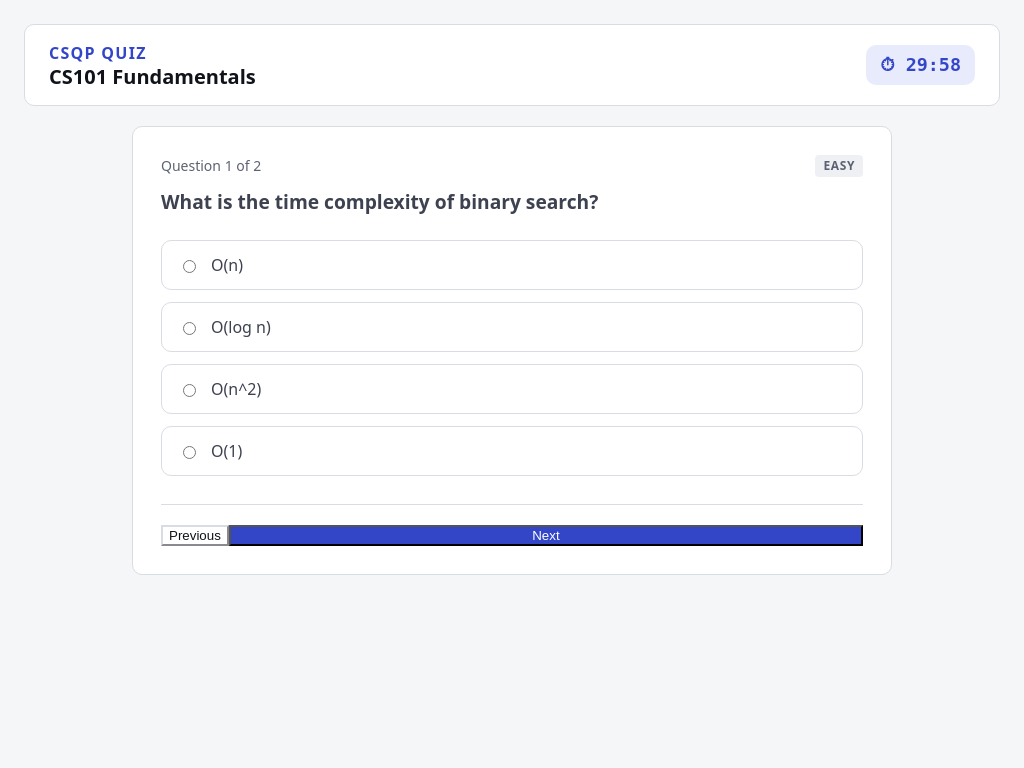
Test: CSQP-23 & CSQP-24: Frontend Anti-Cheat & Single Attempt (TC-Att-03, TC-Att-04) › CSQP-23: Anti-Cheat Protection & Telemetry Enforcement › allows navigating questions, selecting options, and submitting quiz
The width and height of the screenshot is (1024, 768).
Expected: the heading "What is the time complexity of binary search?" is shown, 161,188 -> 598,215
Note: Select option on Question 1
Click the radio button labelled "O(log n)".
click(190, 328)  # box 183,322 -> 196,335
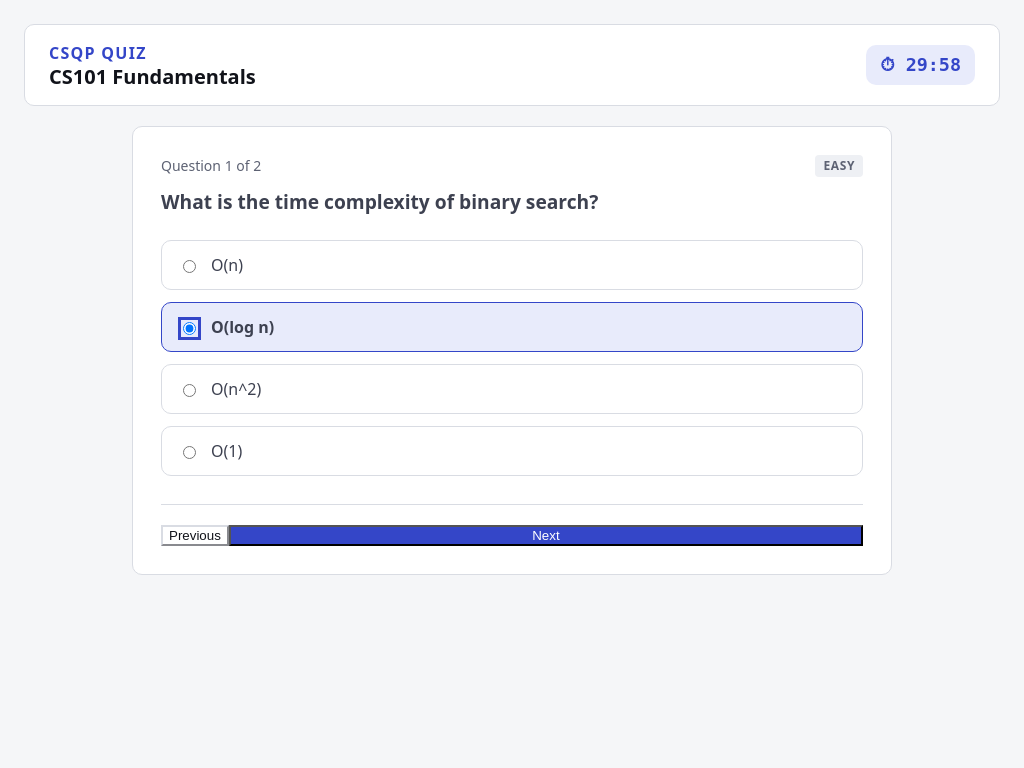
Expected: the radio button labelled "O(log n)" is checked, 183,322 -> 196,335
Note: Click Next
Click the button "Next".
click(546, 535)  # box 229,525 -> 863,546
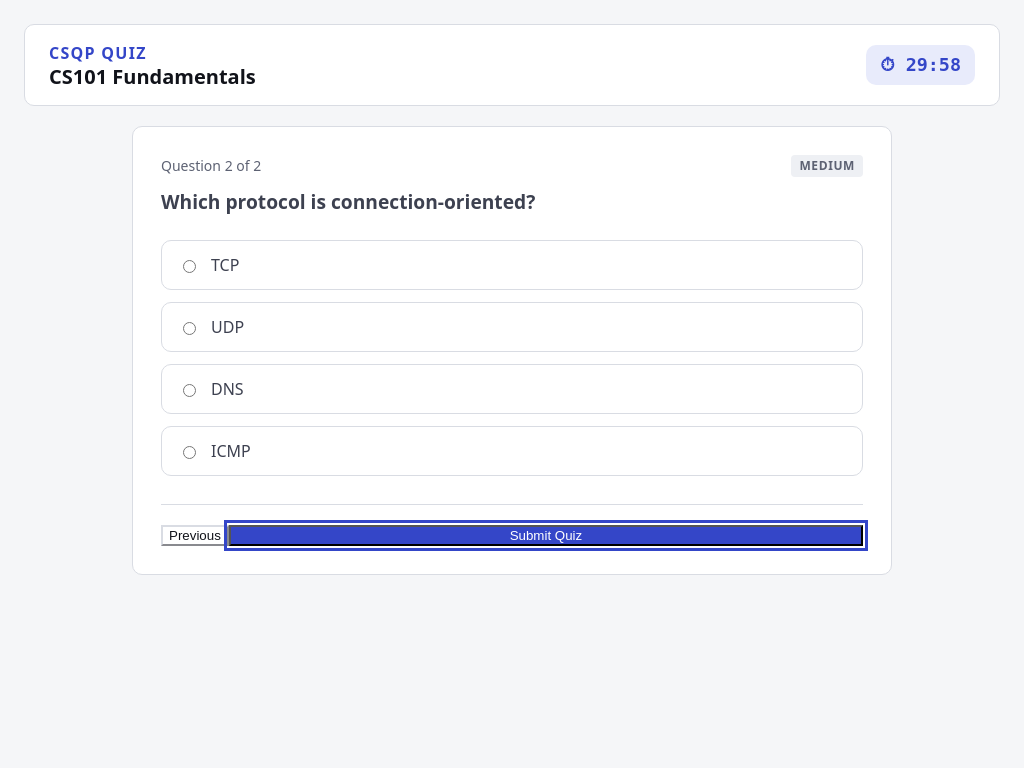
Expected: the heading "Which protocol is connection-oriented?" is shown, 161,188 -> 535,215
Click the radio button labelled "TCP".
click(190, 266)  # box 183,260 -> 196,273
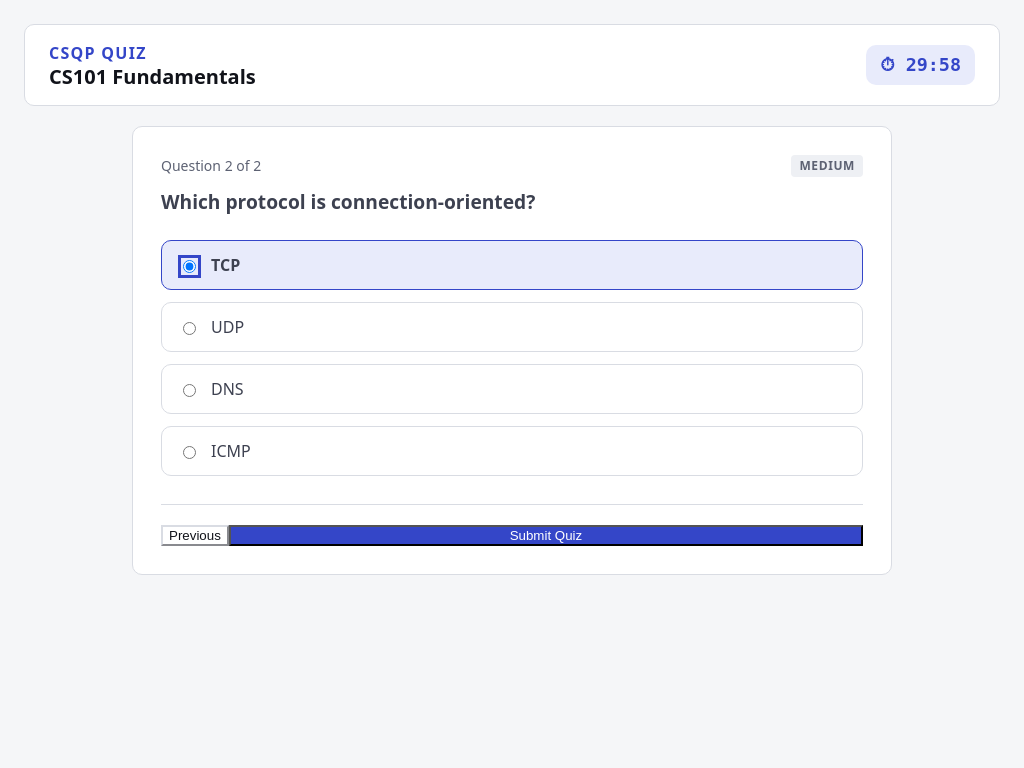
Expected: the radio button labelled "TCP" is checked, 183,260 -> 196,273
Click the button "Submit Quiz".
click(546, 535)  # box 229,525 -> 863,546
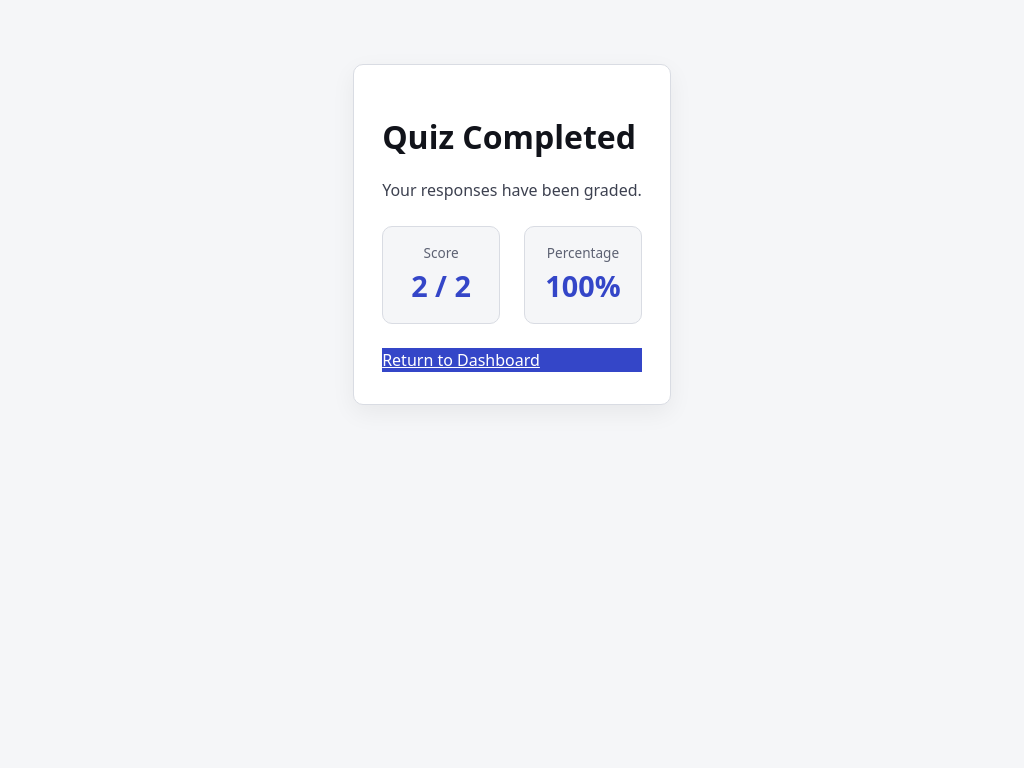
Expected: the heading "Quiz Completed" is shown, 382,118 -> 642,157
Expected: the text "2 / 2" is shown, 411,266 -> 471,305
Expected: the text "100%" is shown, 541,264 -> 625,307
